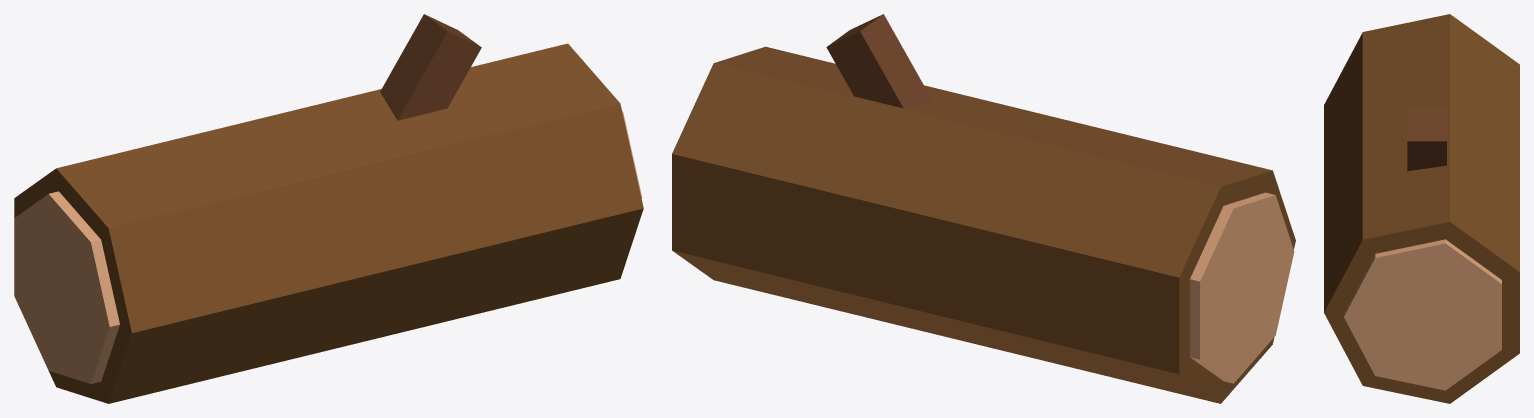
File: llenya.glb
The picture shows the model from 3 angles, left to right: view 1: azimuth 30°, elevation 25°; view 2: azimuth 150°, elevation 25°; view 3: azimuth 270°, elevation 25°; orthographic projection. The views are drawn at different scales.
Visible parts, largest first — view 1: llenya; view 2: llenya; view 3: llenya.
Part boxes in pixels (x1=…): llenya: x1=14, y1=14, x2=643, y2=403; llenya: x1=672, y1=14, x2=1295, y2=403; llenya: x1=1324, y1=14, x2=1519, y2=403.
Size of the model in its own units: 0.4686 by 0.24 by 0.1795.
Materials: 1 (1 with a texture image).
